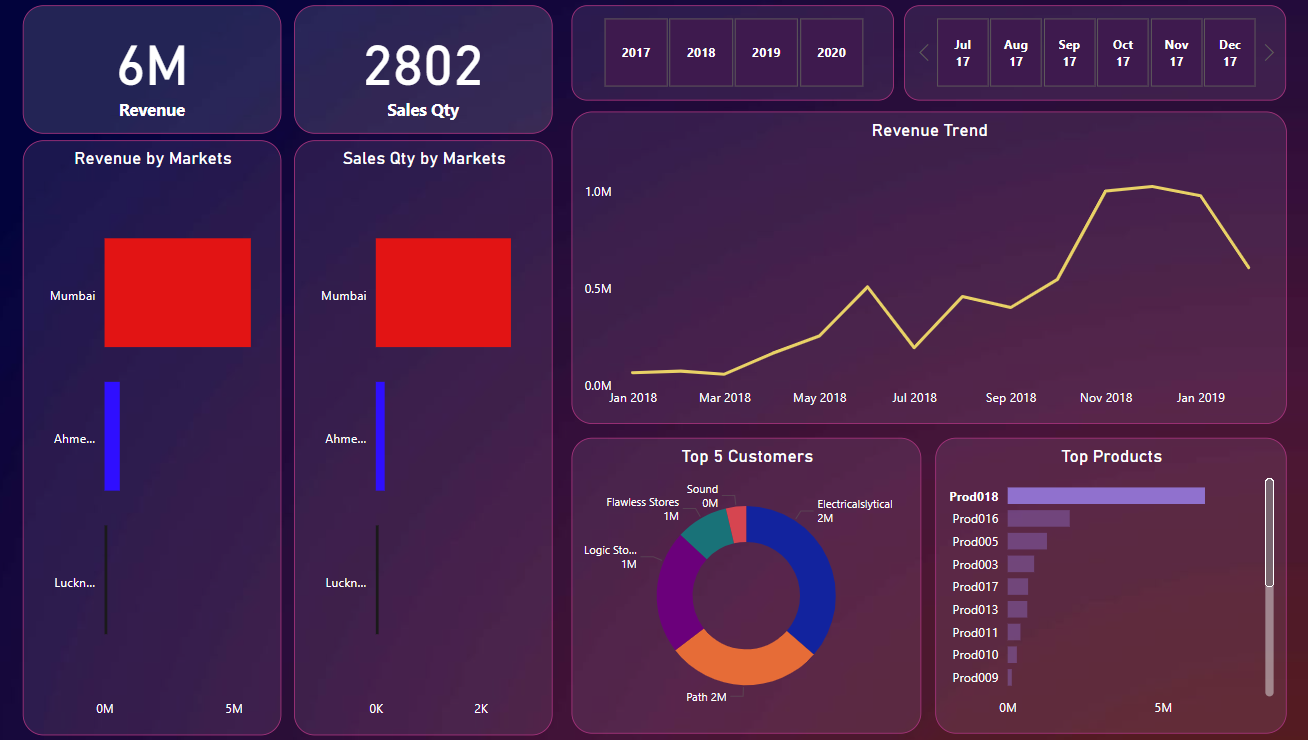

The dashboard page shown, as its layout file describes it:
{"tool":"powerbi","page":{"name":"Page 1","canvas":[1280,720],"ordinal":0},"visuals":[{"type":"card","fields":{"Values":["BaseMeasures.Revenue"]},"box":[27.7,10.9,249.7,124.3],"z":0},{"type":"card","fields":{"Values":["BaseMeasures.Sales Qty"]},"box":[289.5,10.9,249.7,124.3],"z":1000},{"type":"barChart","title":"Revenue by Markets","fields":{"Y":["BaseMeasures.Revenue"],"Category":["markets.markets_name"]},"box":[27.7,141.2,249.7,574.3],"z":2000},{"type":"barChart","title":"Sales Qty by Markets","fields":{"Y":["BaseMeasures.Sales Qty"],"Category":["markets.markets_name"]},"box":[289.5,141.2,249.7,574.3],"z":3000},{"type":"donutChart","title":"Top 5 Customers","fields":{"Category":["customers.customer_name"],"Y":["BaseMeasures.Revenue"]},"box":[557.4,428.3,337.8,285.9],"z":4000},{"type":"barChart","title":"Top Products","fields":{"Y":["BaseMeasures.Revenue"],"Category":["products.product_code"]},"box":[908.4,428.3,339,285.9],"z":5000},{"type":"lineChart","title":"Revenue Trend","fields":{"Y":["BaseMeasures.Revenue"],"Category":["date.cy_date"]},"box":[557.4,113.4,690.1,301.6],"z":6000},{"type":"slicer","fields":{"Values":["date.cy_date"]},"box":[878.3,10.9,369.2,91.7],"z":7000},{"type":"slicer","fields":{"Values":["date.year"]},"box":[557.4,10.9,311.3,91.7],"z":8000}]}

Visuals, with their boxes in screenshot pixels (x1, y1, x2, y2), scaled from the page's 1280x720 canvas onto the 1308x740 screenshot:
card - BaseMeasures.Revenue: <bbox>28, 11, 283, 139</bbox>
card - BaseMeasures.Sales Qty: <bbox>296, 11, 551, 139</bbox>
"Revenue by Markets" barChart: <bbox>28, 145, 283, 735</bbox>
"Sales Qty by Markets" barChart: <bbox>296, 145, 551, 735</bbox>
"Top 5 Customers" donutChart: <bbox>570, 440, 915, 734</bbox>
"Top Products" barChart: <bbox>928, 440, 1275, 734</bbox>
"Revenue Trend" lineChart: <bbox>570, 117, 1275, 427</bbox>
slicer - date.cy_date: <bbox>898, 11, 1275, 105</bbox>
slicer - date.year: <bbox>570, 11, 888, 105</bbox>
